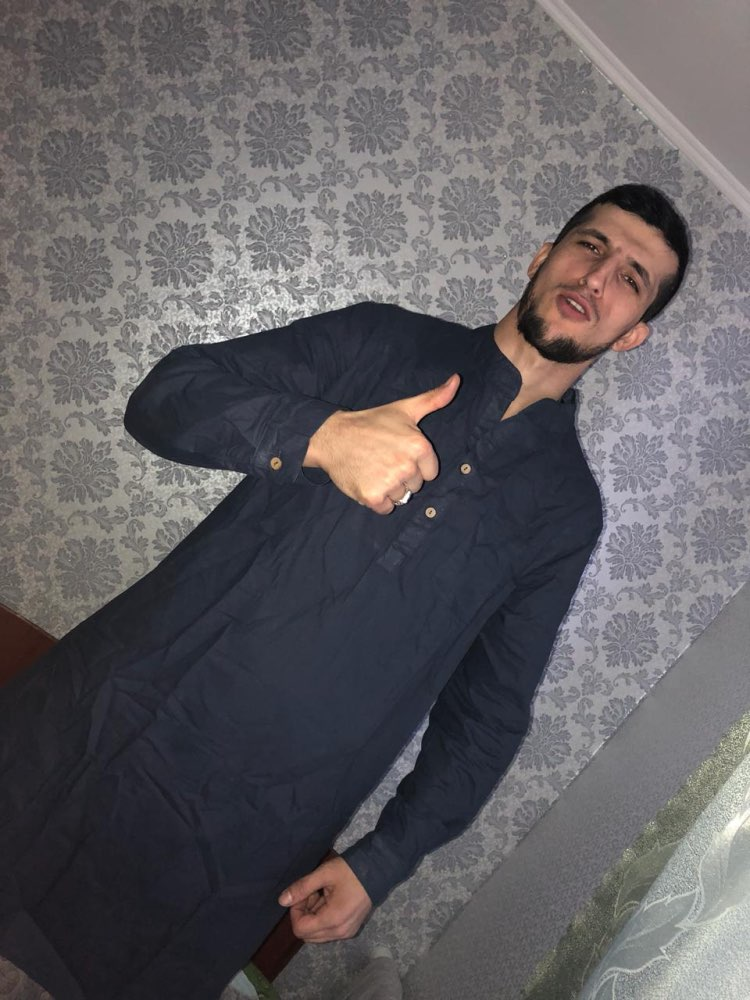shirts: (12, 305, 603, 1000)
